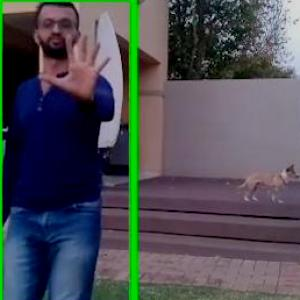follow_hand: (37, 26, 122, 104)
